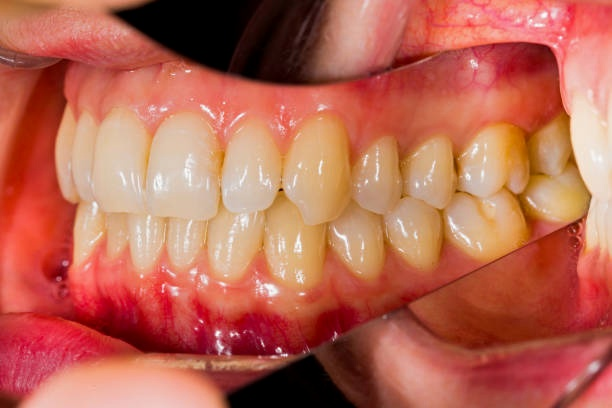Gingivitis: (113, 282, 323, 354)
